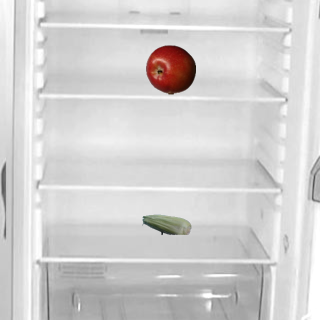Apple Braeburn: (145, 44, 195, 94)
Corn Husk: (141, 199, 191, 249)
